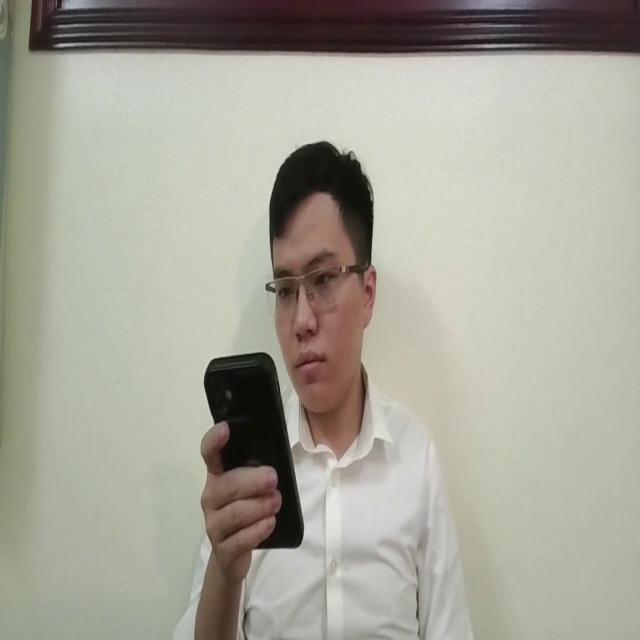phone: (202, 343, 310, 554)
student: (170, 132, 477, 640)
